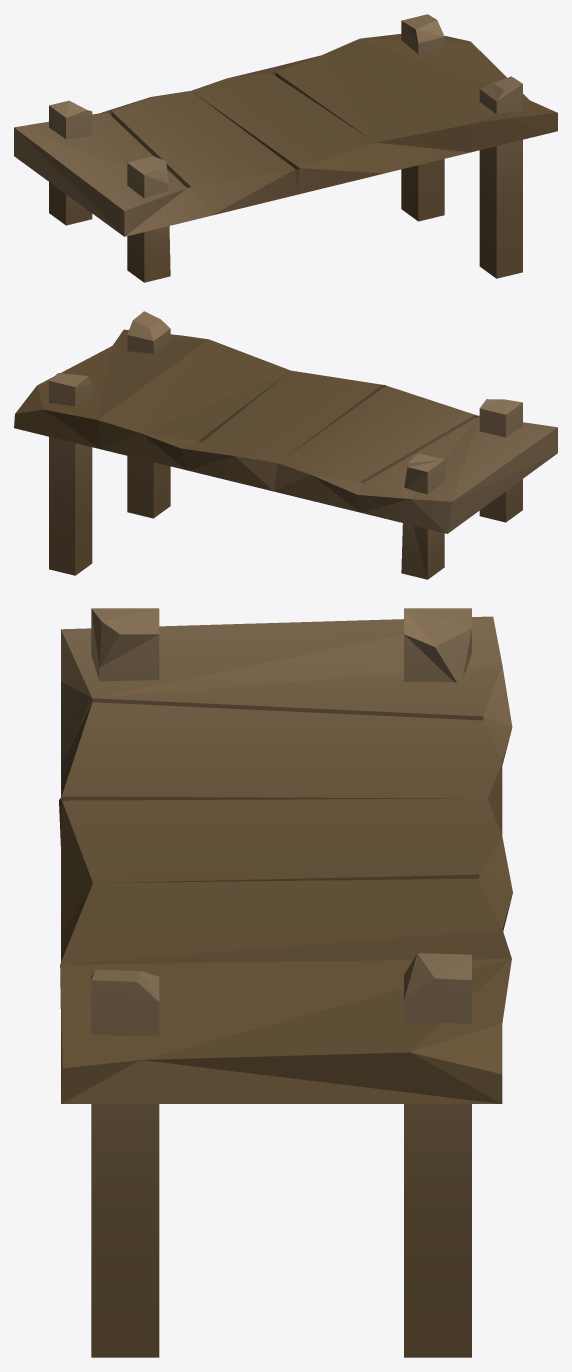
Rendered from Pier.fbx.
3 renders of one model, top to bottom at view 1: azimuth 30°, elevation 25°; view 2: azimuth 150°, elevation 25°; view 3: azimuth 270°, elevation 25°, orthographic. The views are drawn at different scales.
Visible parts, largest first — view 1: Pier; view 2: Pier; view 3: Pier.
Part boxes in pixels (bbox=[...]): Pier: bbox=[14, 14, 557, 282]; Pier: bbox=[14, 311, 557, 579]; Pier: bbox=[59, 608, 512, 1357].
Size of the model in its own units: 4.56 by 1.91 by 2.06.
Materials: 1 (1 with a texture image).
